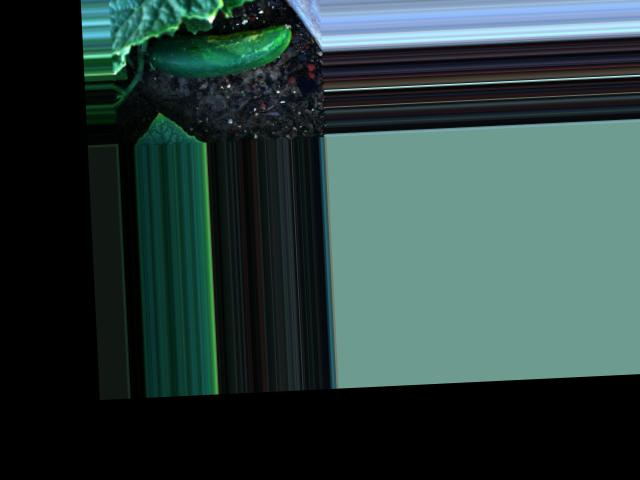cucumber: (148, 23, 294, 79)
